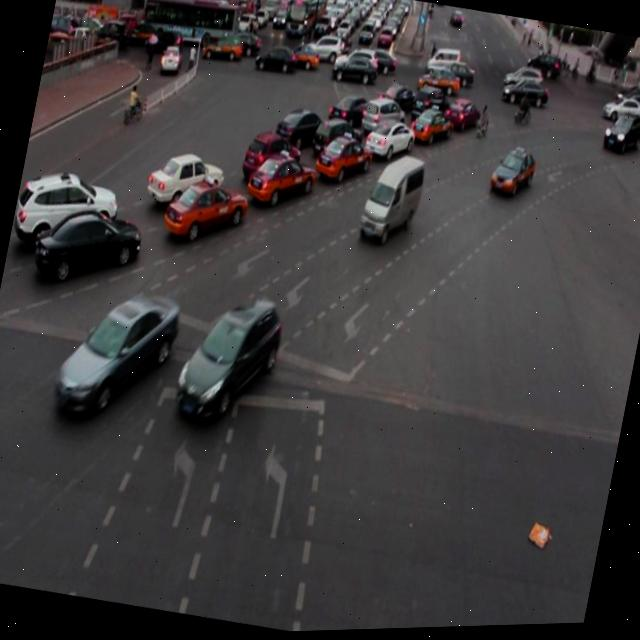car: (54, 283, 180, 427), (174, 288, 286, 429), (31, 197, 146, 288), (15, 163, 121, 251), (161, 174, 249, 246), (145, 147, 226, 213), (244, 146, 318, 213), (240, 128, 306, 188), (313, 131, 374, 190), (487, 143, 538, 207), (310, 113, 366, 164), (274, 104, 327, 157), (363, 118, 416, 166), (405, 103, 455, 152), (326, 92, 374, 137), (599, 113, 640, 162), (407, 84, 447, 130), (441, 96, 482, 140), (375, 83, 417, 123)
truck: (358, 150, 426, 250), (356, 97, 406, 147)
